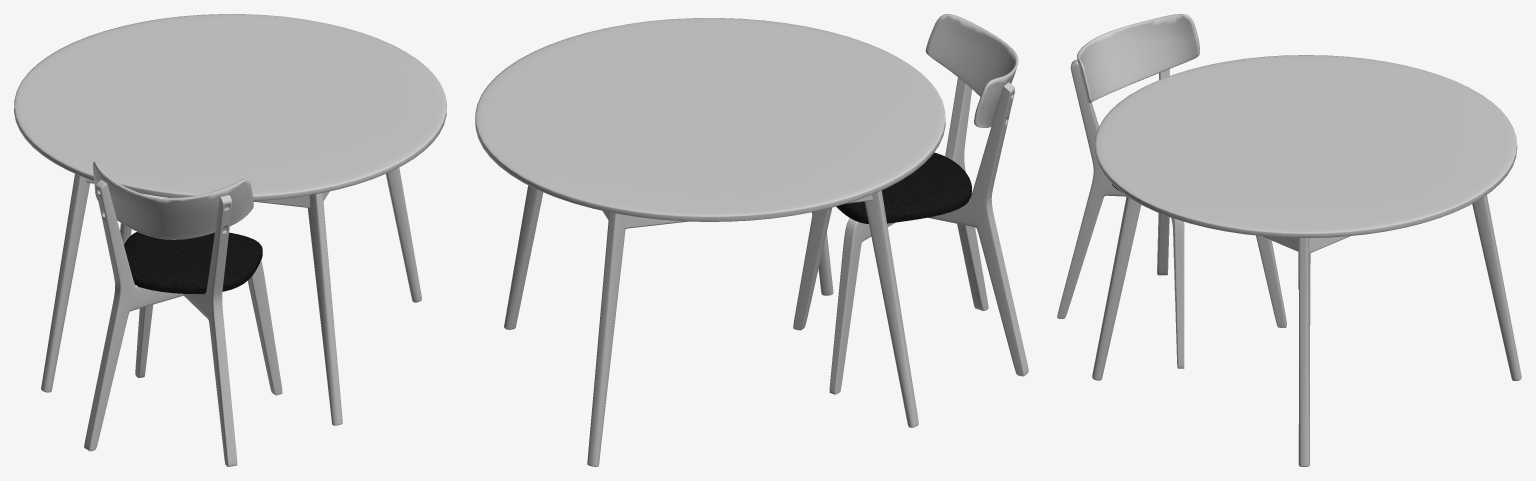
Rendered from 餐桌椅.fbx.
The picture shows the model from 3 angles, left to right: view 1: azimuth 30°, elevation 25°; view 2: azimuth 150°, elevation 25°; view 3: azimuth 270°, elevation 25°; orthographic projection. The views are drawn at different scales.
Visible parts, largest first — view 1: Object_20, Object_16, Object_17; view 2: Object_20, Object_16, Object_17; view 3: Object_20, Object_16.
Part boxes in pixels (x1,y1,x2,y2): Object_20: (14, 14, 446, 425); Object_16: (84, 161, 282, 466); Object_17: (124, 231, 262, 294); Object_20: (475, 18, 945, 466); Object_16: (793, 14, 1028, 394); Object_17: (836, 152, 971, 223); Object_20: (1092, 55, 1521, 466); Object_16: (1057, 14, 1286, 368).
Bounding box in the file's own units: 1670 × 1090 × 1690.
